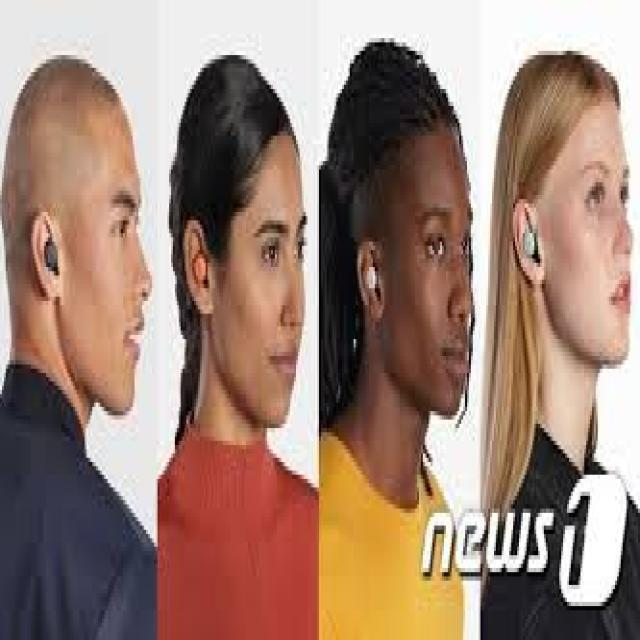earphone: (514, 223, 556, 285), (175, 246, 226, 290), (43, 232, 76, 292), (352, 254, 387, 308)
